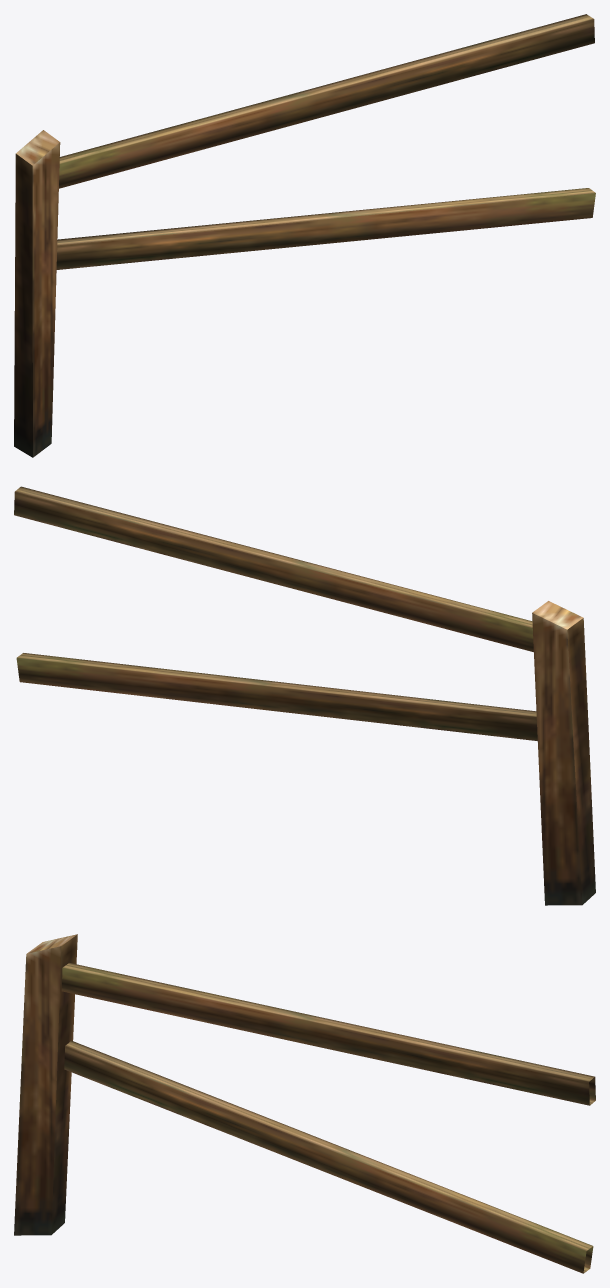
The model's file is general_obj_fence06.fbx.
The picture shows the model from 3 angles, top to bottom: view 1: azimuth 30°, elevation 25°; view 2: azimuth 150°, elevation 25°; view 3: azimuth 330°, elevation 25°; orthographic projection. The views are drawn at different scales.
Visible parts, largest first — view 1: Sphere01; view 2: Sphere01; view 3: Sphere01.
Boxes of the visible parts, bbox=[...] form: Sphere01: bbox=[14, 14, 595, 457]; Sphere01: bbox=[14, 486, 595, 905]; Sphere01: bbox=[14, 934, 595, 1273].
Bounding box in the file's own units: 4.29 × 2.11 × 0.3533.
